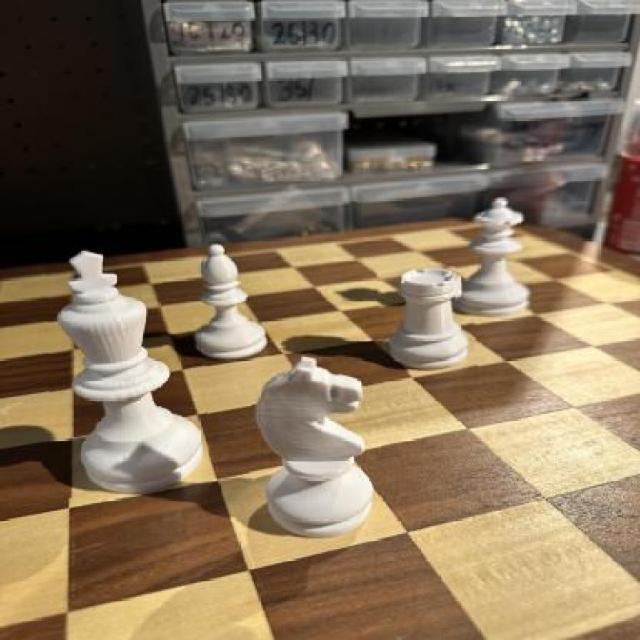black-rook: (192, 240, 273, 365)
white-bishop: (48, 248, 208, 498)
white-king: (249, 352, 383, 536)
white-pawn: (454, 195, 532, 318)
white-queen: (378, 268, 477, 374)
